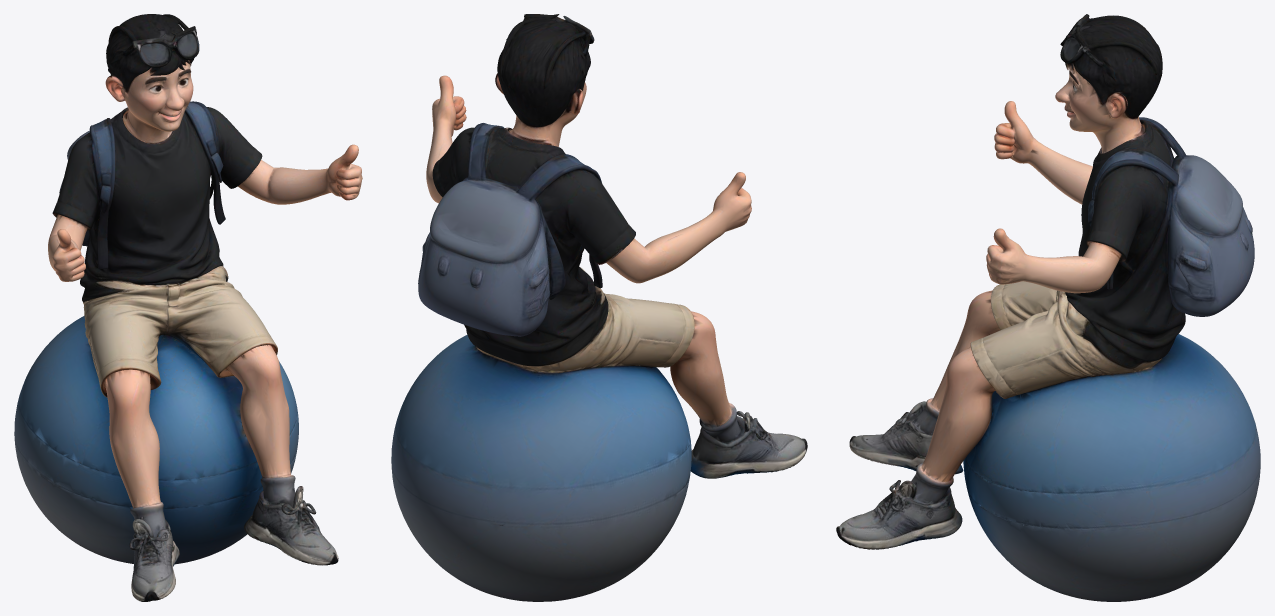
The model's file is limeng.glb.
3 renders of one model, left to right at view 1: azimuth 30°, elevation 25°; view 2: azimuth 150°, elevation 25°; view 3: azimuth 270°, elevation 25°, orthographic. The views are drawn at different scales.
Parts seen in each view (by area): view 1: node_0; view 2: node_0; view 3: node_0.
Boxes of the visible parts, x1,y1,x2,y2 form: node_0: (14,14,362,601); node_0: (391,14,807,601); node_0: (836,14,1260,601).
Size of the model in its own units: 0.6506 by 1.07 by 0.748.
Materials: 1 (1 with a texture image).
